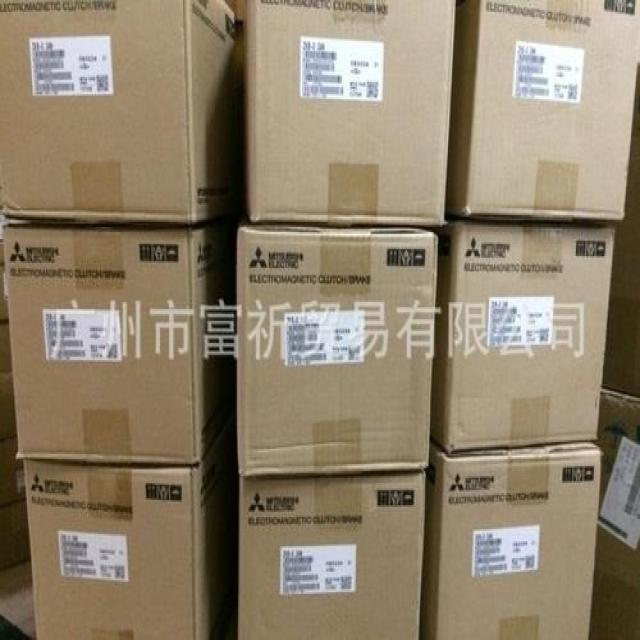box: (237, 226, 439, 478), (3, 224, 209, 465), (245, 0, 456, 226), (420, 215, 617, 452), (447, 0, 639, 221), (419, 439, 601, 638), (23, 455, 210, 638), (238, 471, 426, 637), (592, 388, 639, 589)
